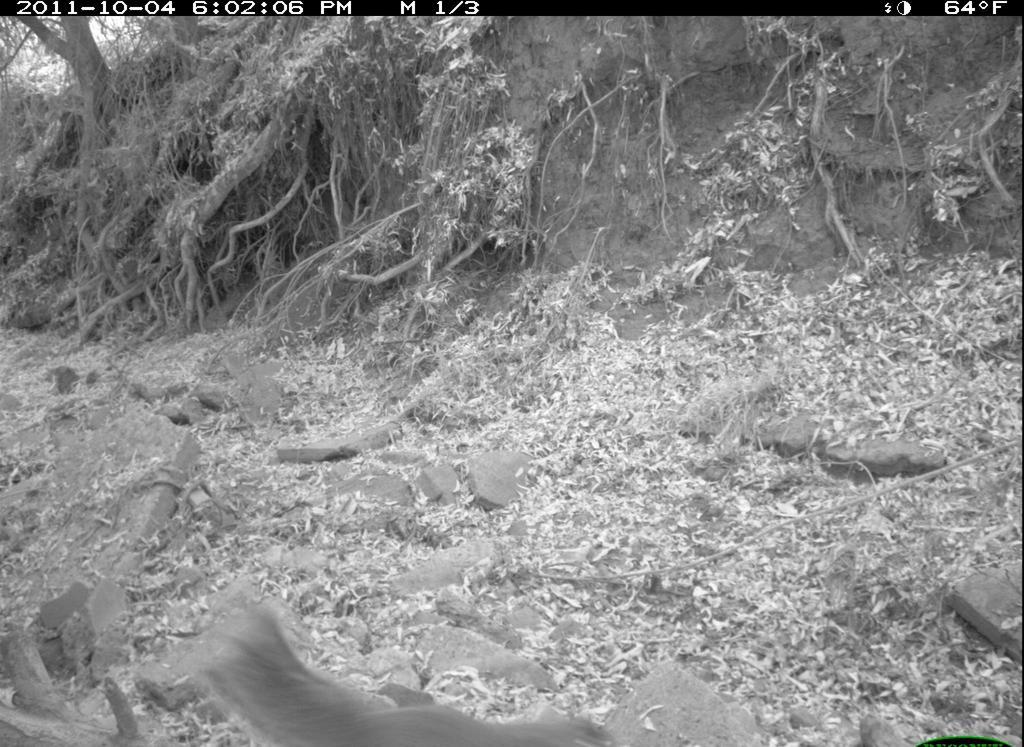squirrel: (195, 600, 634, 747)
